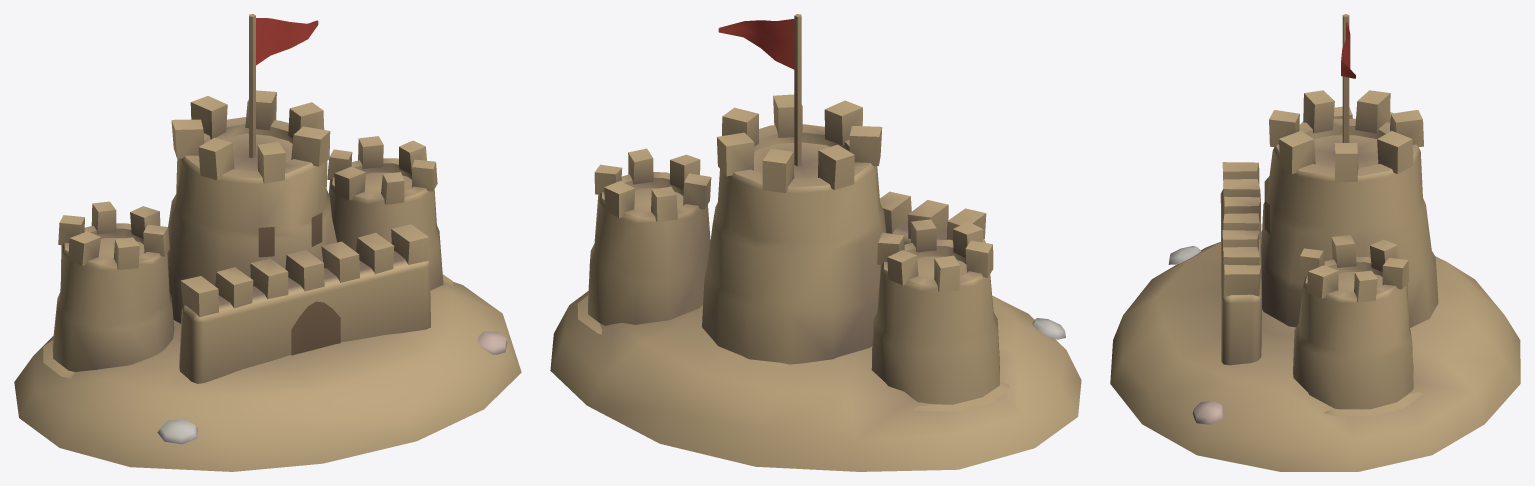
File: SandCastle.fbx
The picture shows the model from 3 angles, left to right: view 1: azimuth 30°, elevation 25°; view 2: azimuth 150°, elevation 25°; view 3: azimuth 270°, elevation 25°; orthographic projection. The views are drawn at different scales.
Visible parts, largest first — view 1: SandCastle; view 2: SandCastle; view 3: SandCastle.
Part boxes in pixels (<box>): SandCastle: <box>14,14,521,471</box>; SandCastle: <box>550,14,1081,471</box>; SandCastle: <box>1110,14,1520,471</box>.
Bounding box in the file's own units: 0.6445 × 0.4777 × 0.51.
